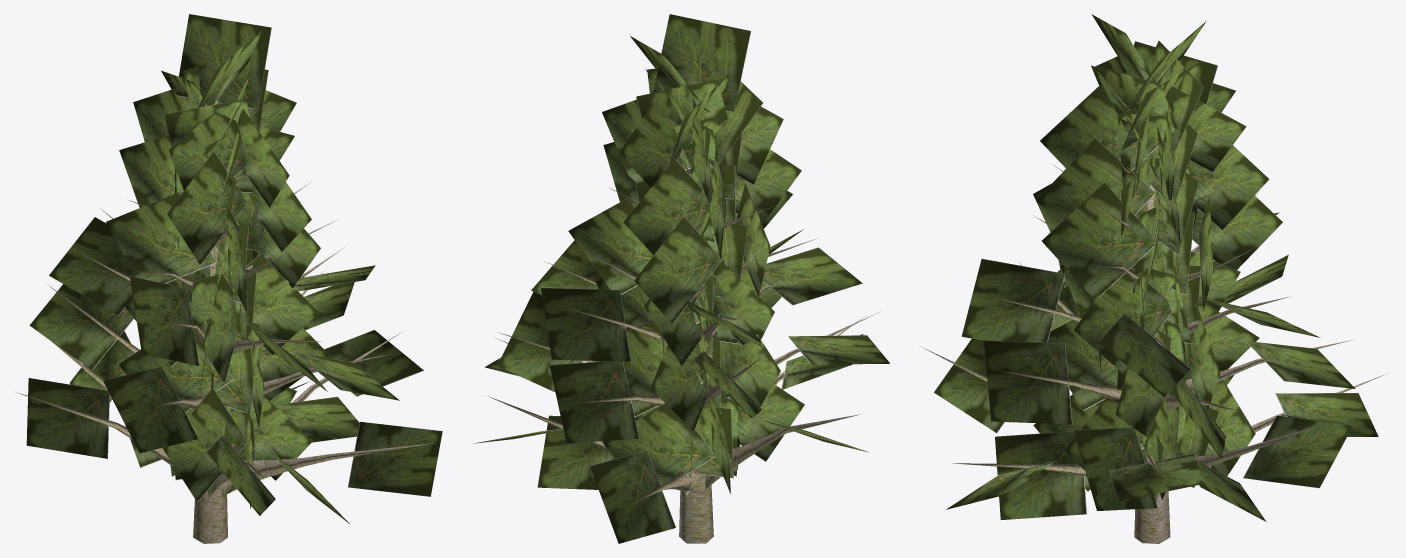
File: spruce_tree_1.fbx
The picture shows the model from 3 angles, left to right: view 1: azimuth 30°, elevation 25°; view 2: azimuth 150°, elevation 25°; view 3: azimuth 270°, elevation 25°; orthographic projection. The views are drawn at different scales.
Parts seen in each view (by area): view 1: Tree_1, Tree_0; view 2: Tree_1, Tree_0; view 3: Tree_1, Tree_0.
Part boxes in pixels (x1=…): Tree_1: x1=26, y1=14, x2=442, y2=523; Tree_0: x1=17, y1=73, x2=435, y2=543; Tree_1: x1=473, y1=14, x2=889, y2=543; Tree_0: x1=488, y1=58, x2=879, y2=543; Tree_1: x1=934, y1=14, x2=1378, y2=521; Tree_0: x1=924, y1=50, x2=1388, y2=543.
Size of the model in its own units: 653 by 828 by 677.
